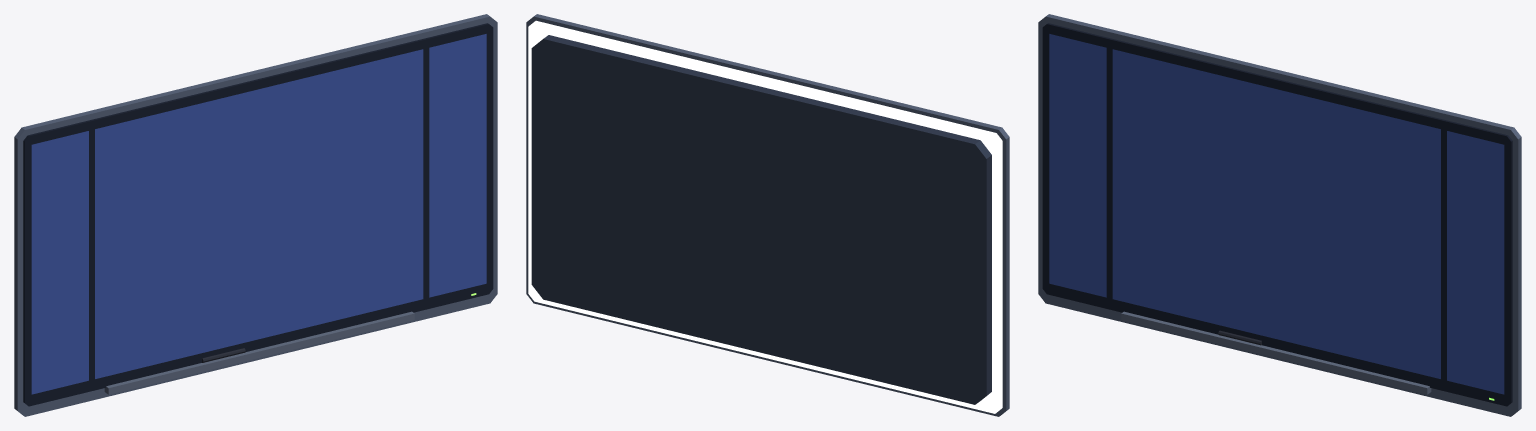
The model's file is off_conf_screen_wall.glb.
3 views of the same model, side by side, from view 1: azimuth 30°, elevation 25°; view 2: azimuth 150°, elevation 25°; view 3: azimuth 330°, elevation 25° (orthographic).
Visible parts, largest first — view 1: print.001, print.002, bezel, aluminium_frame, stylus_shelf; view 2: wall_mount, halo, aluminium_frame; view 3: print.001, print.002, bezel, aluminium_frame, stylus_shelf.
Part boxes in pixels (x1,y1,x2,y2): print.001: [95, 49, 423, 378]; print.002: [31, 34, 486, 394]; bezel: [23, 23, 493, 406]; aluminium_frame: [14, 14, 497, 416]; stylus_shelf: [104, 311, 414, 394]; wall_mount: [531, 35, 991, 404]; halo: [528, 20, 1002, 413]; aluminium_frame: [526, 14, 1009, 416]; print.001: [1112, 49, 1440, 378]; print.002: [1049, 34, 1504, 394]; bezel: [1042, 23, 1512, 406]; aluminium_frame: [1038, 14, 1521, 416]; stylus_shelf: [1121, 311, 1431, 394].
Bounding box in the file's own units: 4.2 × 2.4 × 0.22.
